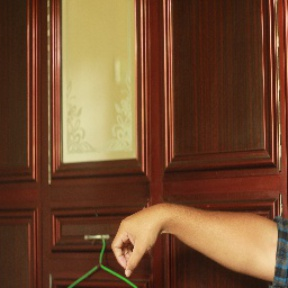O: (111, 208, 166, 280)
